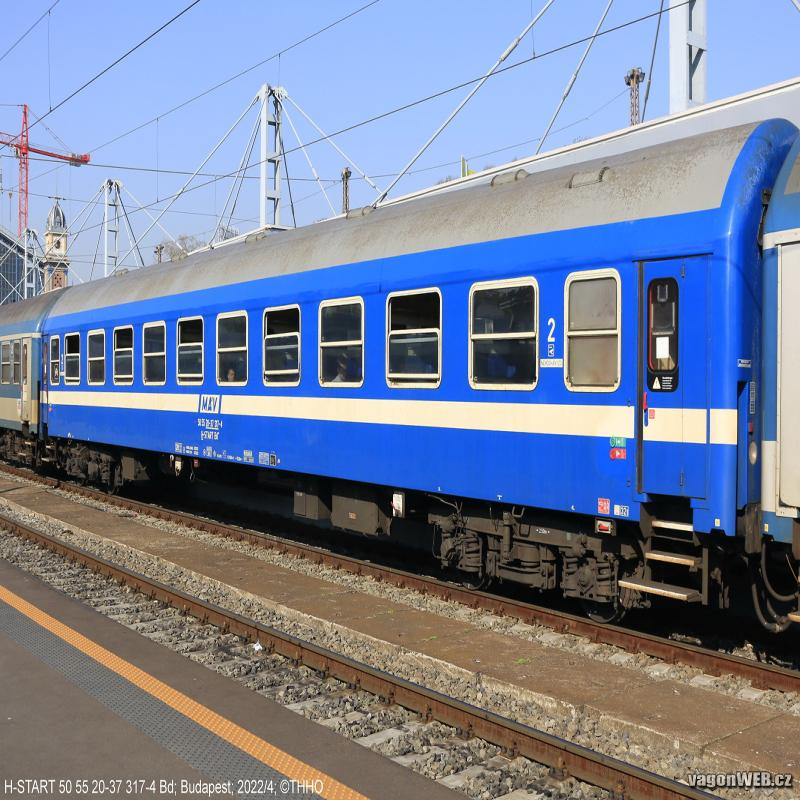train: (40, 119, 798, 638)
